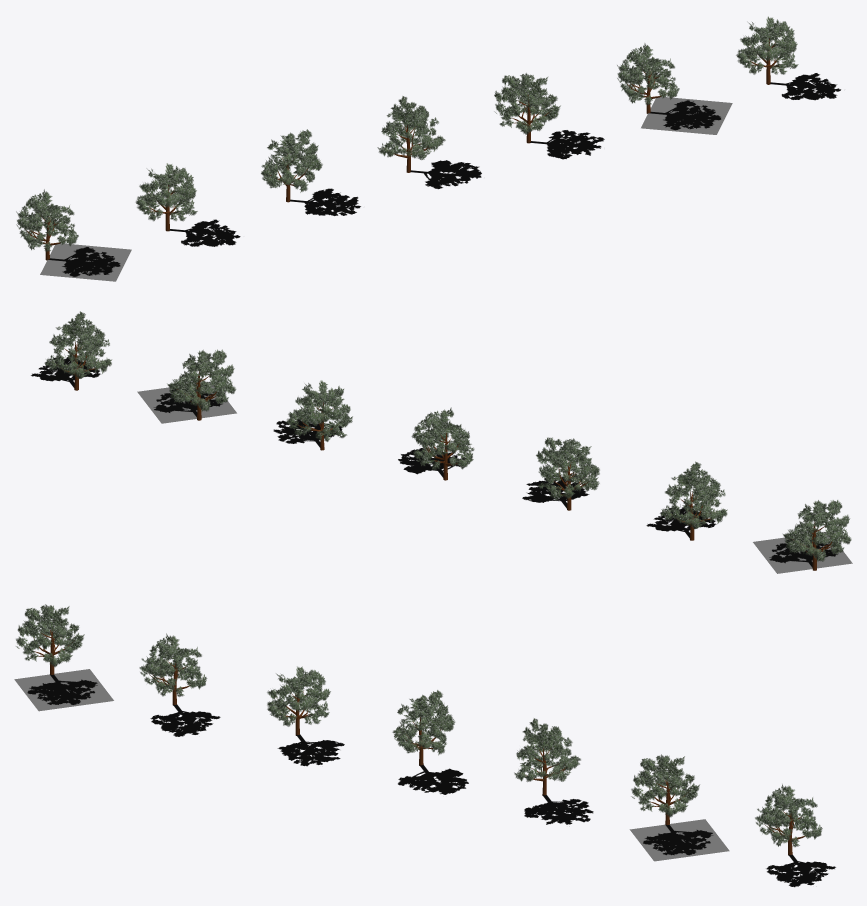
File: treelineEW3.glb
The picture shows the model from 3 angles, top to bottom: view 1: azimuth 30°, elevation 25°; view 2: azimuth 150°, elevation 25°; view 3: azimuth 330°, elevation 25°; orthographic projection. The views are drawn at different scales.
Parts seen in each view (by area): view 1: tree0; view 2: tree0; view 3: tree0.
Boxes of the visible parts, x1,y1,x2,y2 form: tree0: [16, 16, 840, 281]; tree0: [31, 311, 852, 573]; tree0: [14, 604, 835, 887].
Bounding box in the file's own units: 171 × 13.85 × 21.1.
Materials: 7 (6 with a texture image).
